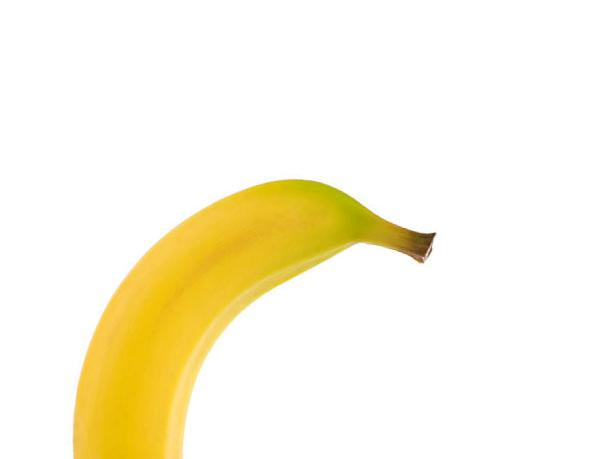banana: (69, 175, 438, 459)
